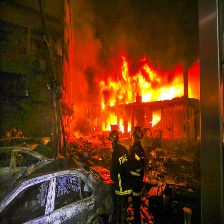fire: (100, 54, 205, 132)
smoke: (70, 6, 99, 125)
